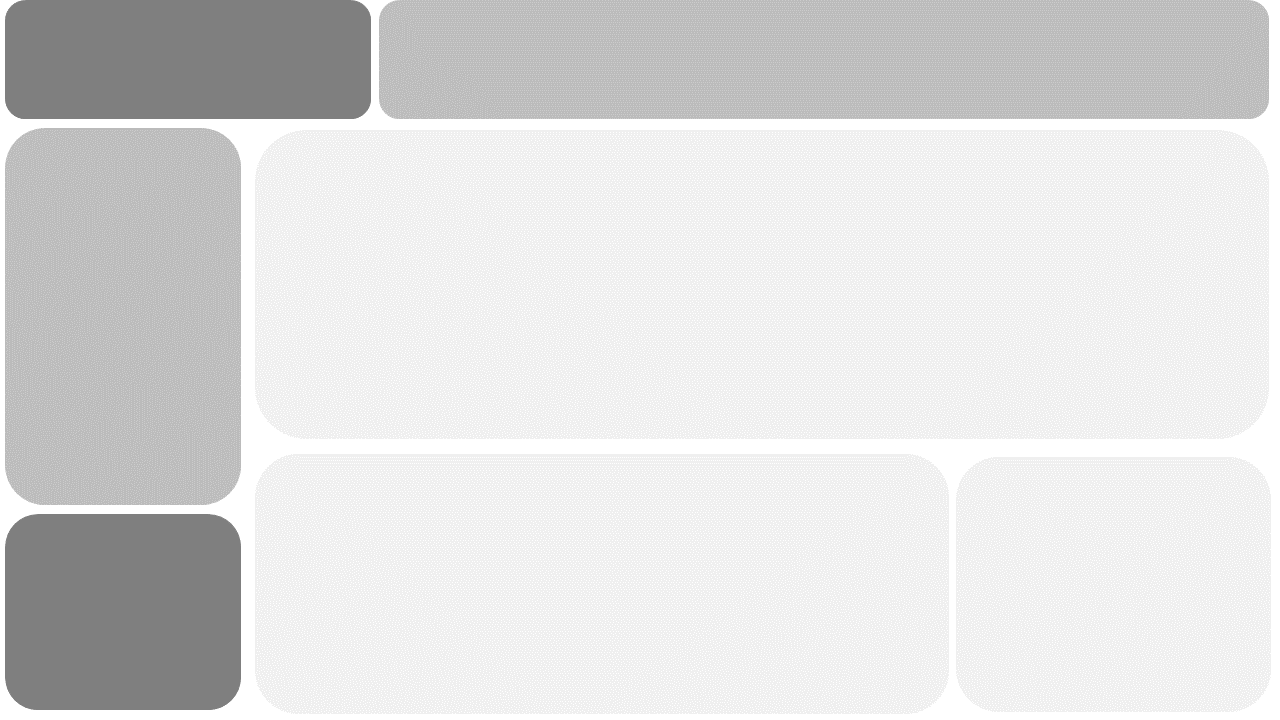

What the dashboard file says about the page in this screenshot:
{"tool":"powerbi","page":{"name":"Life Expectancy","canvas":[1280,720],"ordinal":0},"visuals":[{"type":"slicer","fields":{"Values":["Life Expectancy - final.Country"]},"box":[15.6,131.2,211.9,73.9],"z":0},{"type":"textbox","box":[0,0,375,111],"z":1000},{"type":"enlightenWorldFlagsE887F52F76244B1C927F80CF9724AEF6","fields":{"code":["Life Expectancy - final.Country"]},"box":[397.2,0,172.9,110.8],"z":3000},{"type":"areaChart","title":"Life Expectancy Country Vs. Continent","fields":{"Category":["Year.Year"],"Y2":["Years Pivot.AverageLifeExpectancyByContinent"],"Y":["Median(Years Pivot.Life Expectancy)"]},"box":[703,131,577,303],"z":4000},{"type":"filledMap","fields":{"Category":["Life Expectancy - final.Region Hierarchy.Country"]},"box":[266.9,130.8,429.4,302.9],"z":5000},{"type":"cardVisual","fields":{"Data":["Min(Life Expectancy - final.Country)","Min(Life Expectancy - final.Human Development Groups)","Min(Life Expectancy - final.UNDP Developing Regions)","Max(Life Expectancy - final.HDI Rank (2021))","Avg(Years Pivot.Mean Life Expectancy)"]},"box":[569.9,0,698,109.8],"z":6000},{"type":"pivotTable","fields":{"Rows":["Life Expectancy - final.Country"],"Values":["Avg(Life Expectancy - final.2021)"]},"box":[965,458,303,253],"z":7000},{"type":"lineChart","fields":{"Category":["Year.Year"],"Series":["Life Expectancy - final.Country"],"Y":["Avg(Years Pivot.Life Expectancy)"]},"box":[261,458,681,253],"z":8000},{"type":"cardVisual","fields":{"Data":["Count(Life Expectancy - final.Country)"]},"box":[300.3,458.7,115.7,51.5],"z":9000},{"type":"slicer","fields":{"Values":["Life Expectancy - final.Human Development Groups"]},"box":[15.6,195.4,211.9,128.3],"z":10000},{"type":"textbox","box":[0,510.3,243.9,200.2],"z":11000},{"type":"slicer","fields":{"Values":["Life Expectancy - final.UNDP Developing Regions"]},"box":[19.4,323.6,208,175.9],"z":12000},{"type":"textbox","box":[267.3,434.4,1012.7,23.3],"z":13000},{"type":"cardVisual","fields":{"Data":["Min(Life Expectancy - final.Continent)"]},"box":[702.7,143.8,109.8,51.5],"z":14000},{"type":"actionButton","box":[179.2,479.3,40.6,20.3],"z":15000}]}

Visuals, with their boxes in screenshot pixels (x1, y1, x2, y2), scaled from the page's 1280x720 canvas onto the 1280x720 screenshot:
slicer - Life Expectancy - final.Country: 16 131 228 205
textbox: 0 0 375 111
enlightenWorldFlagsE887F52F76244B1C927F80CF9724AEF6 - Life Expectancy - final.Country: 397 0 570 111
"Life Expectancy Country Vs. Continent" areaChart: 703 131 1279 434
filledMap - Life Expectancy - final.Region Hierarchy.Country: 267 131 696 434
cardVisual - Min(Life Expectancy - final.Country) x Min(Life Expectancy - final.Human Development Groups): 570 0 1268 110
pivotTable - Life Expectancy - final.Country x Avg(Life Expectancy - final.2021): 965 458 1268 711
lineChart - Year.Year x Life Expectancy - final.Country: 261 458 942 711
cardVisual - Count(Life Expectancy - final.Country): 300 459 416 510
slicer - Life Expectancy - final.Human Development Groups: 16 195 228 324
textbox: 0 510 244 710
slicer - Life Expectancy - final.UNDP Developing Regions: 19 324 227 500
textbox: 267 434 1279 458
cardVisual - Min(Life Expectancy - final.Continent): 703 144 812 195
actionButton: 179 479 220 500
